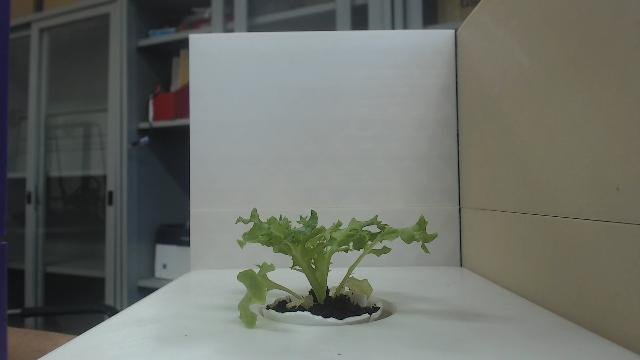Vegetative Stage: (235, 206, 441, 330)
